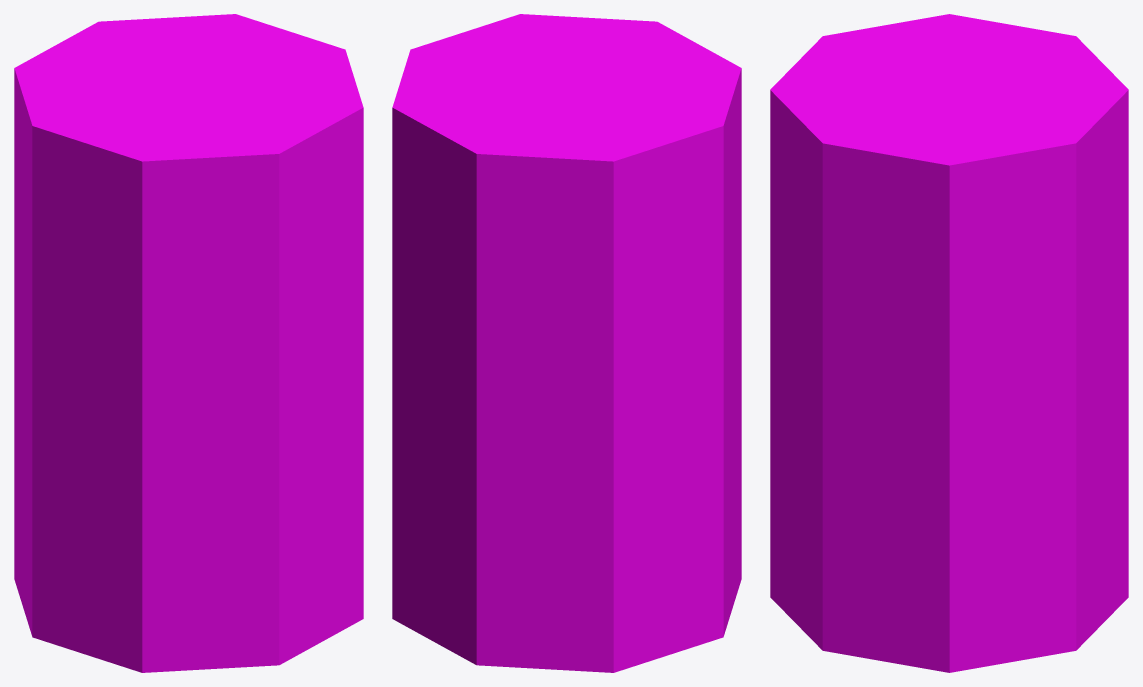
The model's file is creosote_small.dae.
3 views of the same model, side by side, from view 1: azimuth 30°, elevation 25°; view 2: azimuth 150°, elevation 25°; view 3: azimuth 270°, elevation 25° (orthographic).
Visible parts, largest first — view 1: Colmesh_bush-1; view 2: Colmesh_bush-1; view 3: Colmesh_bush-1.
Part boxes in pixels (x1,y1,x2,y2): Colmesh_bush-1: (14,14,363,672); Colmesh_bush-1: (392,14,741,672); Colmesh_bush-1: (770,14,1128,672).
Size of the model in its own units: 0.49 by 0.49 by 0.7718.
